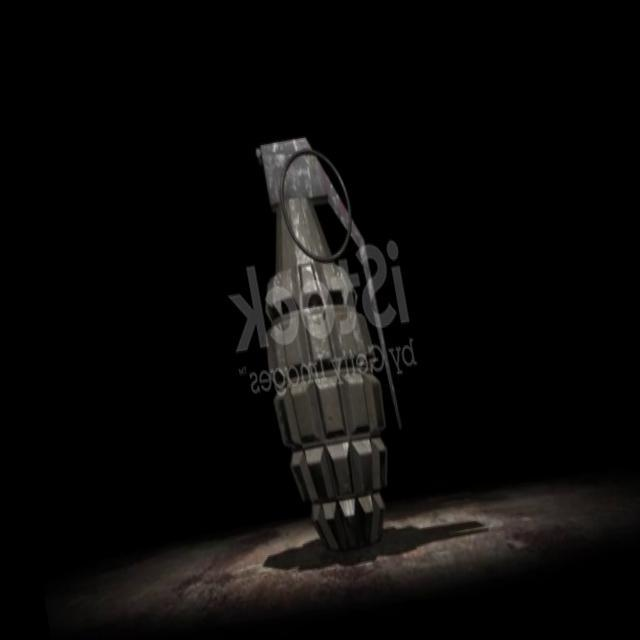grenade: (220, 109, 426, 576)
